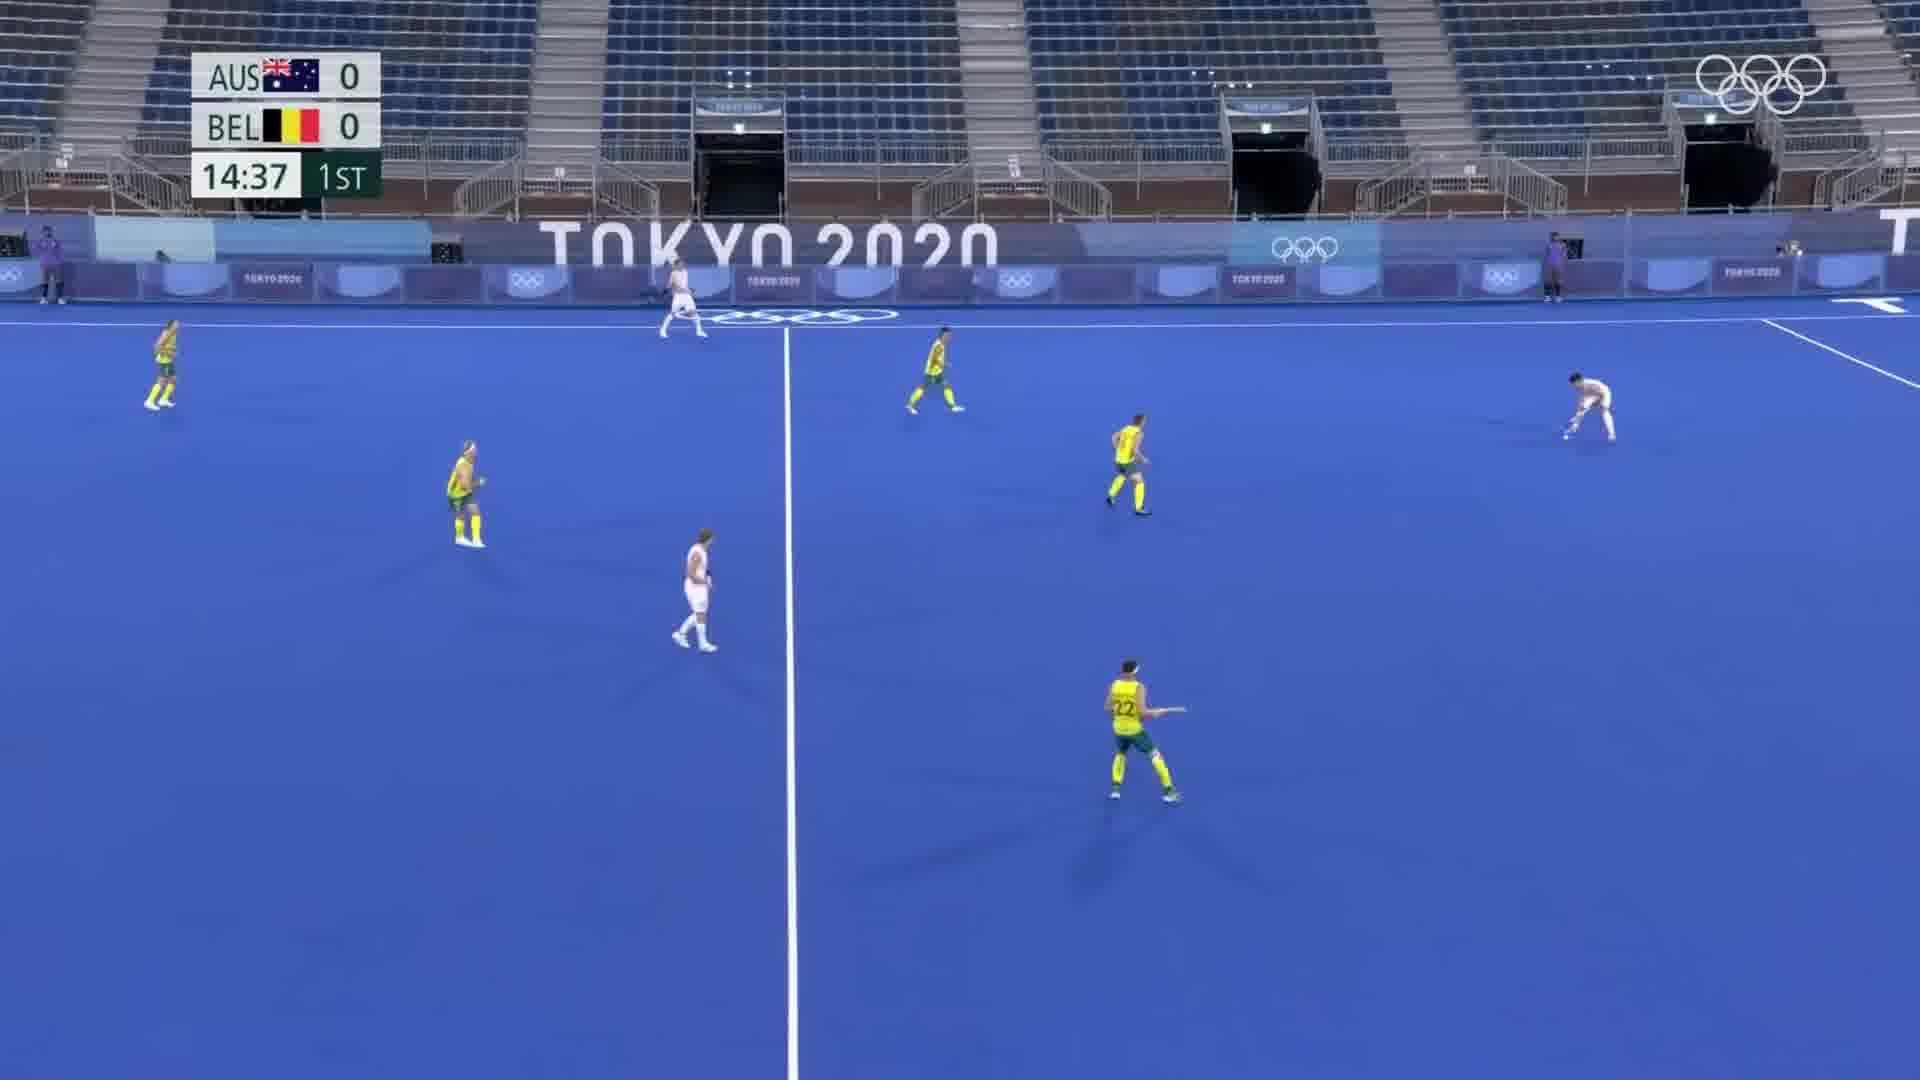ball: (1553, 419, 1582, 456)
